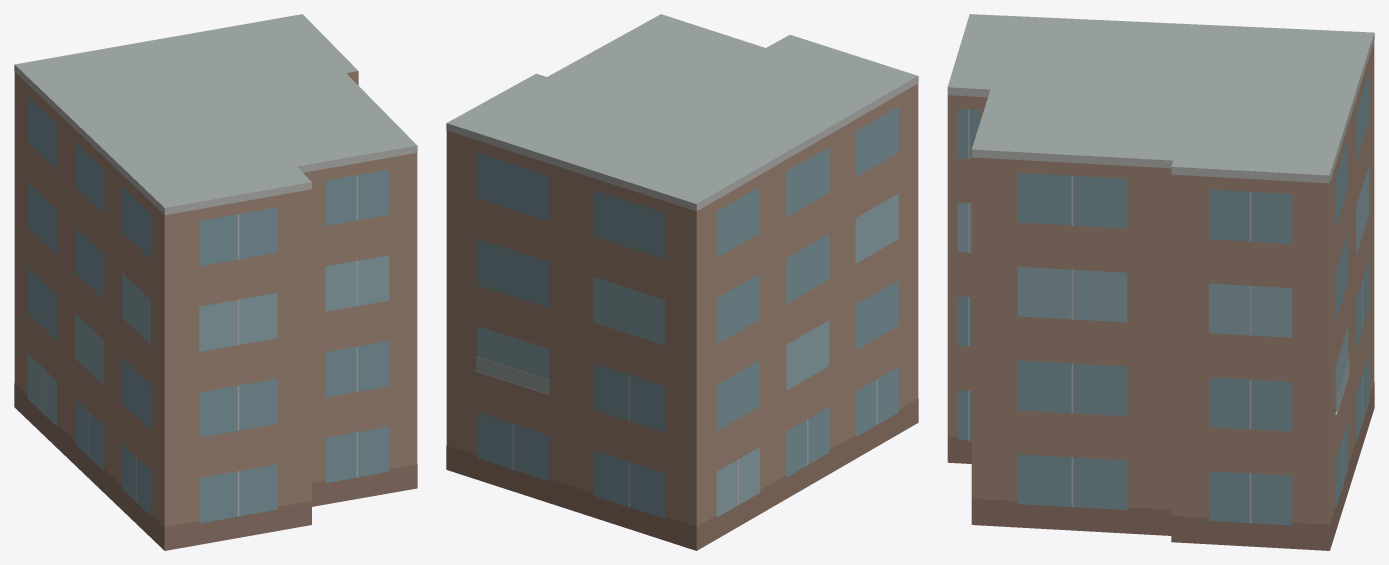
Rendered from survey-upis-32726795.glb.
3 renders of one model, left to right at view 1: azimuth 30°, elevation 25°; view 2: azimuth 150°, elevation 25°; view 3: azimuth 270°, elevation 25°, orthographic. The views are drawn at different scales.
Parts seen in each view (by area): view 1: survey-upis-32726795.tmp; view 2: survey-upis-32726795.tmp; view 3: survey-upis-32726795.tmp.
Boxes of the visible parts, <box> form: survey-upis-32726795.tmp: <box>14,14,417,550</box>; survey-upis-32726795.tmp: <box>446,14,918,550</box>; survey-upis-32726795.tmp: <box>947,14,1374,550</box>.
Bounding box in the file's own units: 10.76 × 11.65 × 12.02.
